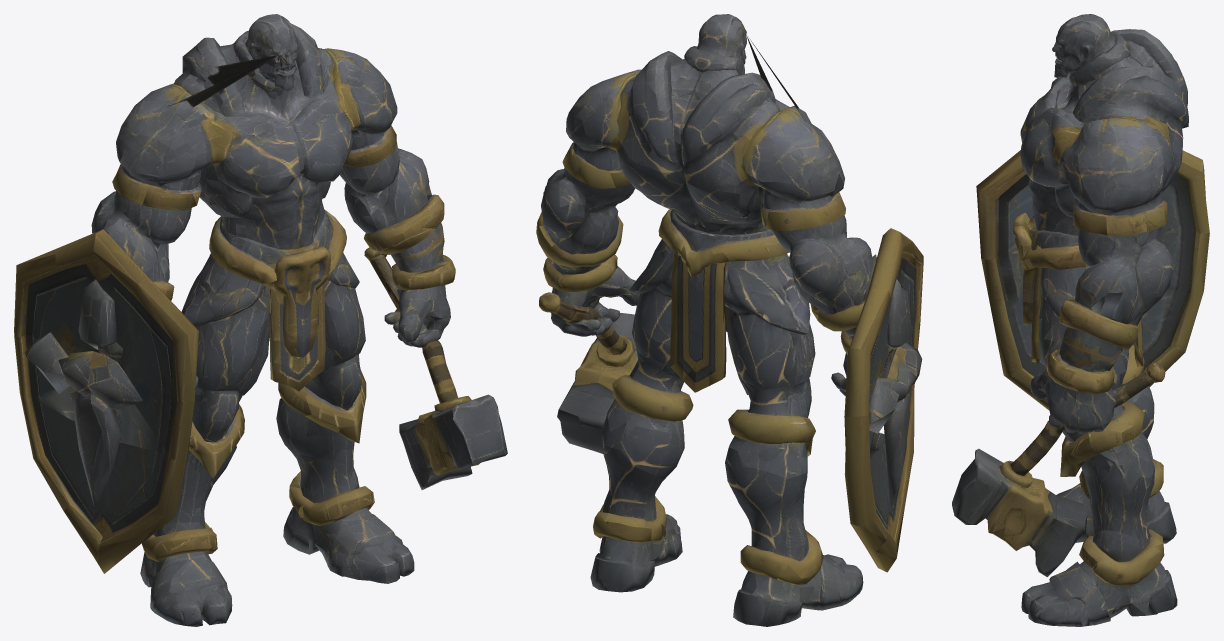
The model's file is hero_lithide_paladin.glb.
3 renders of one model, left to right at view 1: azimuth 30°, elevation 25°; view 2: azimuth 150°, elevation 25°; view 3: azimuth 270°, elevation 25°, orthographic.
Bounding box in the file's own units: 0.7129 × 1 × 0.4248.
Materials: 1 (1 with a texture image).
